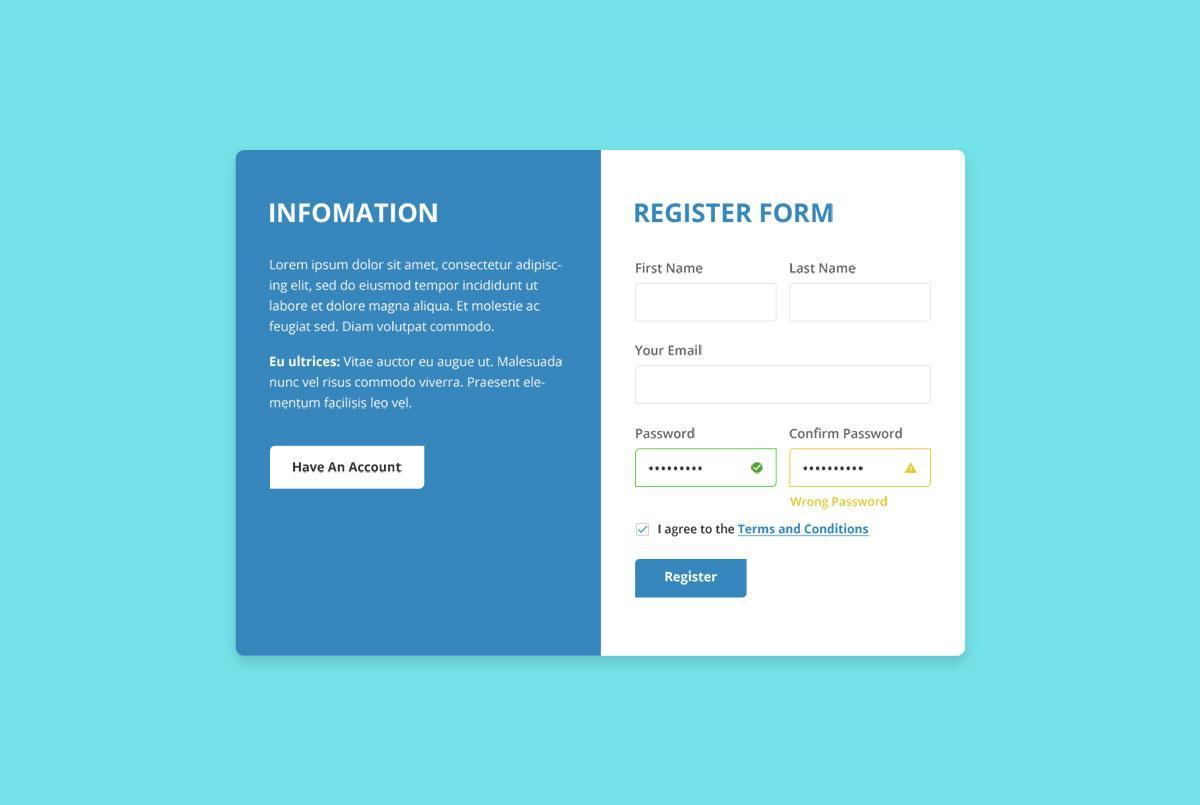button: (269, 447, 427, 490), (638, 560, 748, 599), (656, 521, 873, 539)
checkbox: (635, 520, 653, 539)
input: (635, 364, 933, 405), (791, 284, 932, 323), (637, 284, 776, 322), (635, 450, 777, 487), (790, 450, 931, 487)
label: (789, 427, 906, 444), (632, 258, 707, 279), (633, 341, 705, 361), (786, 262, 861, 278), (633, 427, 700, 444)
